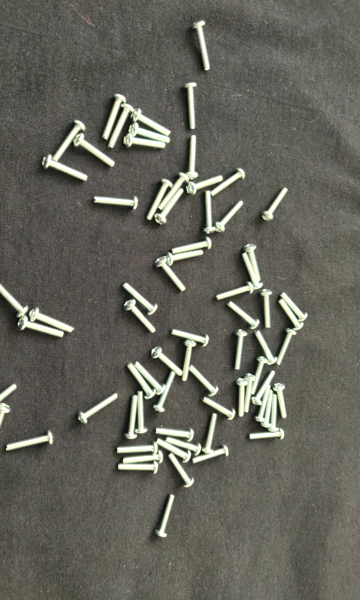longscrew: (73, 133, 115, 169), (51, 119, 86, 162), (41, 154, 89, 183), (77, 392, 119, 425), (157, 172, 190, 212), (0, 276, 30, 319), (107, 103, 135, 149), (29, 307, 76, 334), (121, 282, 158, 316), (145, 179, 174, 222), (123, 299, 158, 334), (101, 94, 127, 141), (126, 361, 157, 400), (154, 188, 185, 227), (4, 430, 54, 454), (131, 107, 172, 136), (133, 361, 166, 396), (17, 315, 65, 339), (155, 256, 187, 292), (152, 371, 177, 415), (210, 168, 246, 198), (150, 346, 184, 377), (189, 364, 220, 398), (226, 300, 260, 331), (260, 187, 290, 222), (214, 200, 244, 234), (192, 19, 211, 72), (155, 495, 177, 540), (240, 252, 265, 291), (156, 438, 192, 465), (168, 453, 195, 489), (128, 122, 171, 144), (280, 291, 309, 323), (253, 330, 278, 367), (251, 371, 277, 406), (200, 397, 236, 422), (275, 328, 298, 367), (278, 298, 305, 331), (186, 174, 224, 197), (192, 443, 230, 465), (122, 395, 140, 440), (164, 436, 202, 457), (171, 328, 210, 348), (253, 385, 273, 424), (165, 247, 204, 267), (216, 282, 254, 302), (242, 244, 262, 282), (201, 413, 219, 455), (93, 195, 140, 211), (172, 237, 213, 255), (123, 133, 166, 150), (251, 356, 269, 396), (232, 329, 249, 371), (0, 384, 18, 423), (181, 340, 197, 383), (201, 190, 216, 235), (186, 135, 201, 180), (134, 391, 149, 435), (259, 289, 275, 330), (185, 81, 198, 131), (116, 461, 159, 476), (116, 441, 159, 456), (155, 427, 195, 443), (272, 382, 289, 419), (122, 450, 163, 465), (0, 403, 12, 453), (260, 389, 275, 429), (243, 373, 257, 414), (248, 428, 286, 443), (236, 377, 249, 419), (267, 393, 281, 432)
